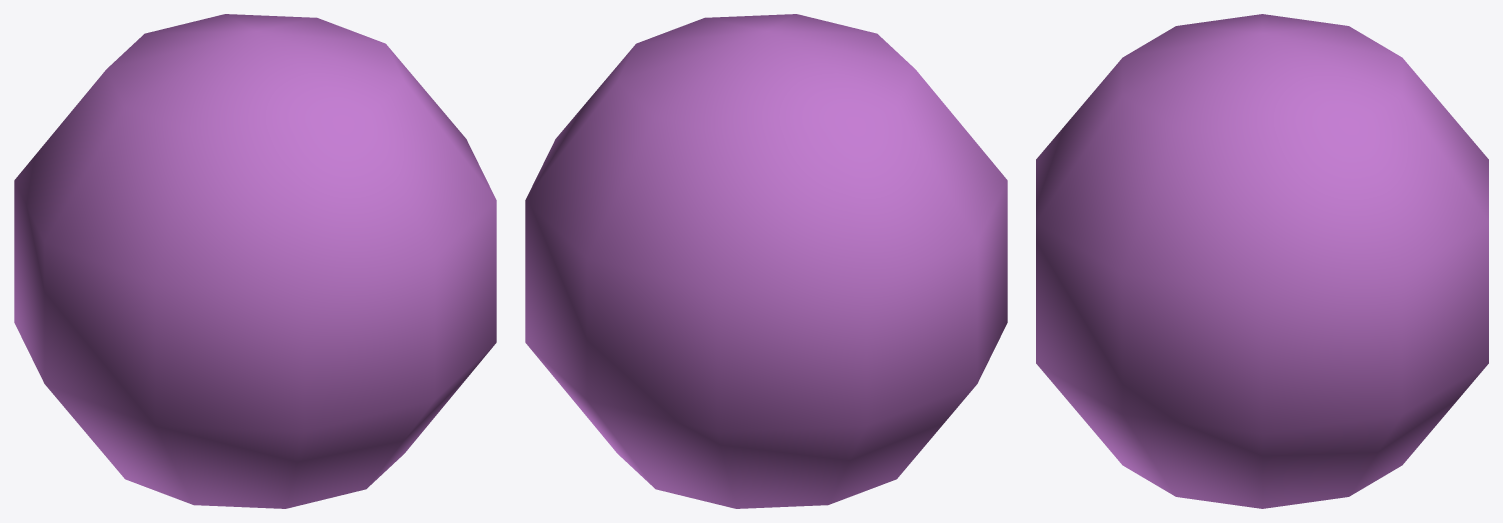
The picture shows the model from 3 angles, left to right: view 1: azimuth 30°, elevation 25°; view 2: azimuth 150°, elevation 25°; view 3: azimuth 270°, elevation 25°; orthographic projection.
Parts seen in each view (by area): view 1: Sphere; view 2: Sphere; view 3: Sphere.
Boxes of the visible parts, x1,y1,x2,y2 form: Sphere: (14, 14, 496, 508); Sphere: (525, 14, 1007, 508); Sphere: (1036, 14, 1488, 508).
Size of the model in its own units: 0.48 by 0.5 by 0.45.
